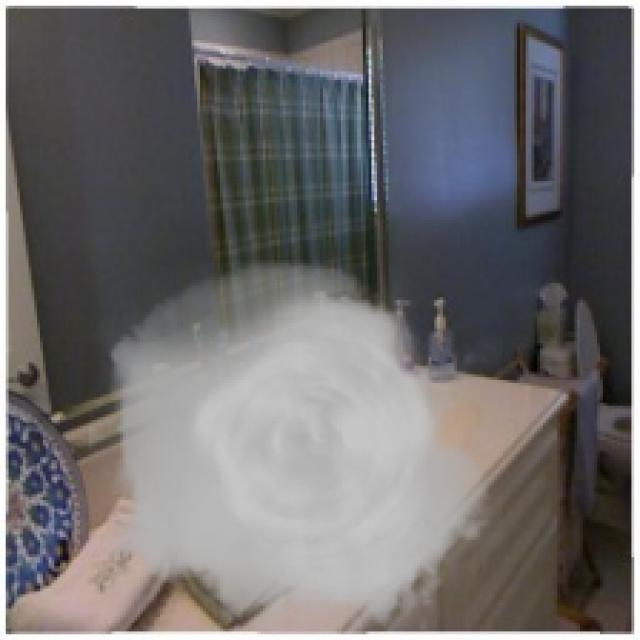Smoke: (88, 259, 503, 632)
